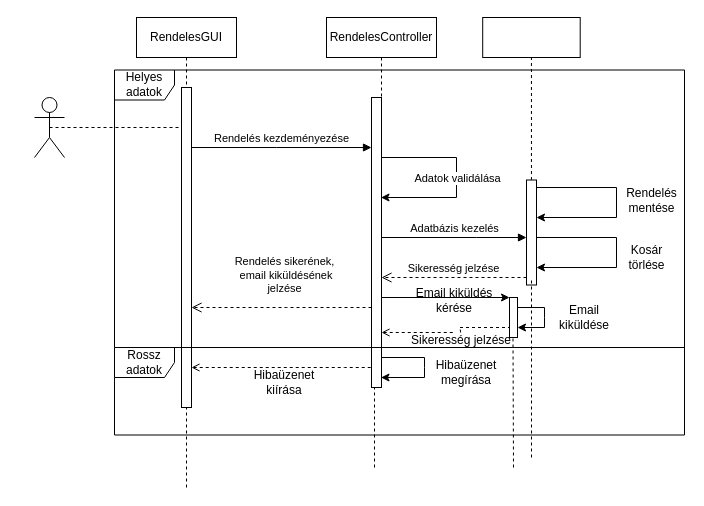
Some shapes in this 704 by 506 pixel diagram are drawn without their labels. The shapes that lost their labels are listed below. From the top down, each one's centre as x and y in pixels, then its label:
the point at 531,37: RendelesDAO
the point at 49,127: Felhasználó
